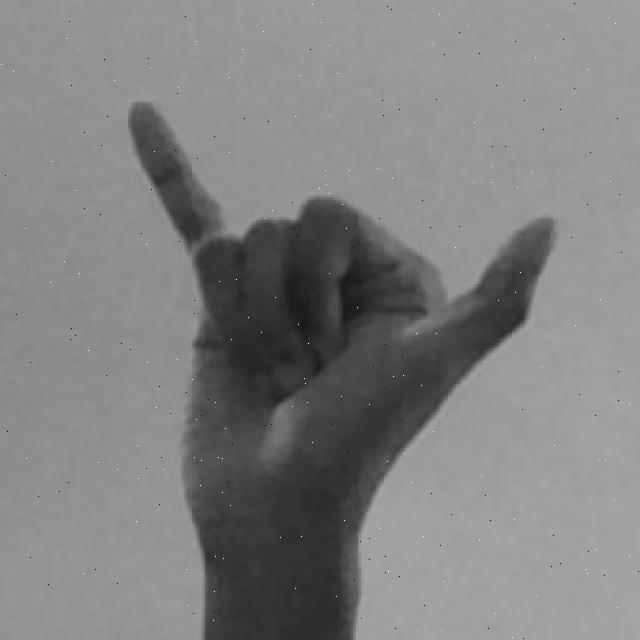Y: (122, 94, 566, 640)
